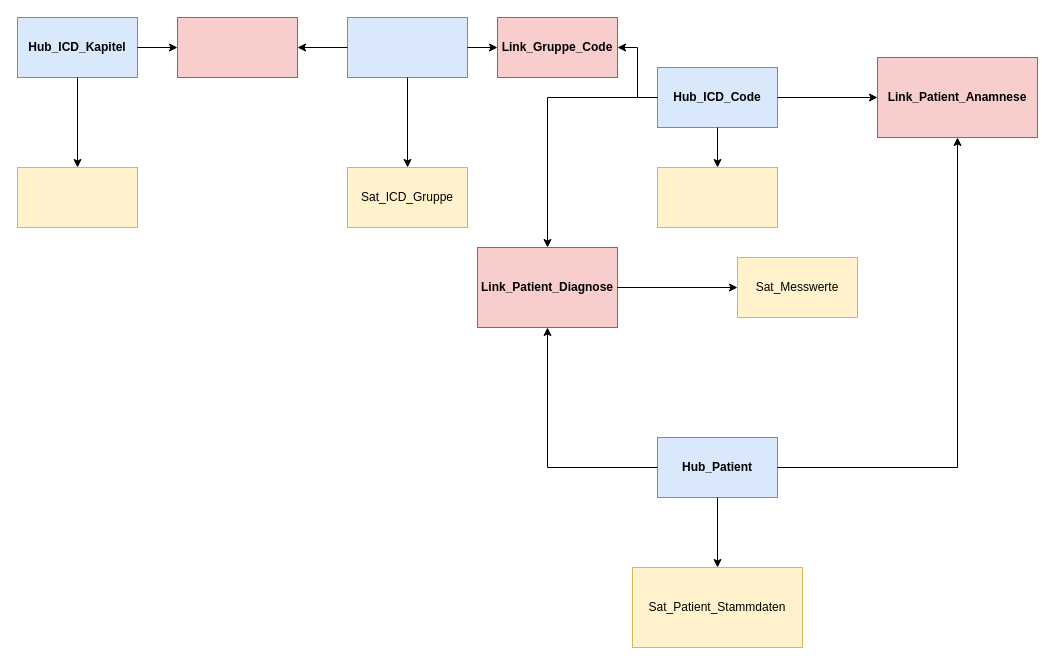
Image size: 1055x665. Some labels were removed from this diagram. The box of each missing label's shape, as (x1, y1, x2, y2) in pixels:
Hub_ICD_Gruppe: (346, 16, 468, 78)
Link_Kapitel_Gruppe: (176, 16, 298, 78)
Sat_ICD_Code: (656, 166, 778, 228)
Sat_ICD_Kapitel: (16, 166, 138, 228)
